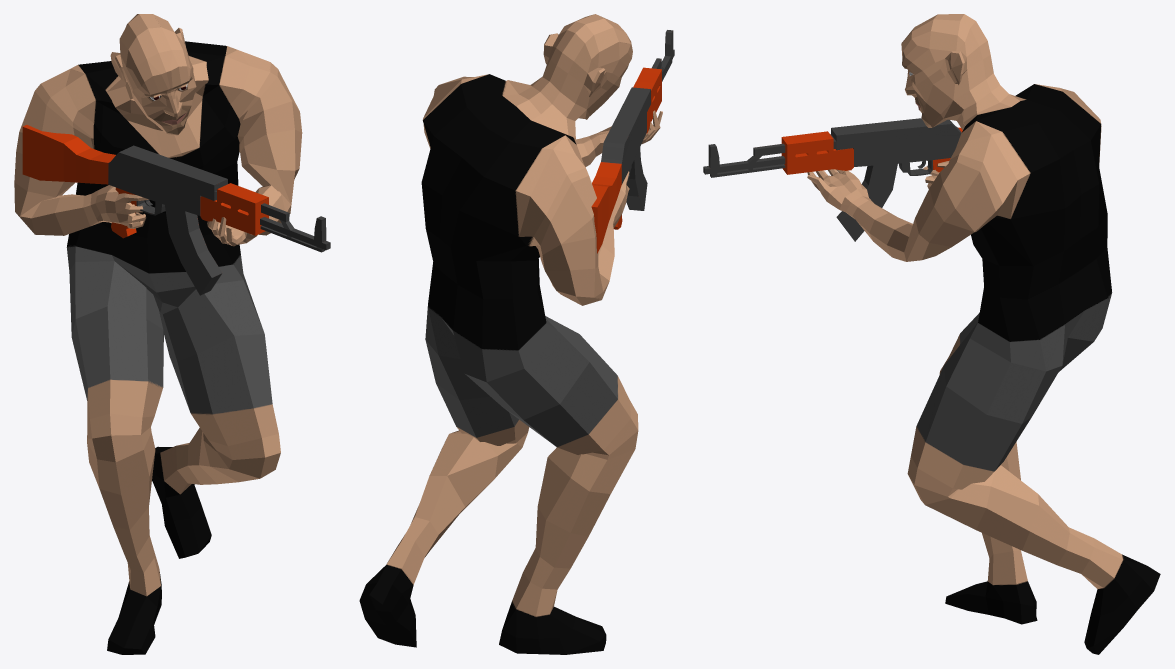
The model's file is PlayerWalk(28).obj.
3 renders of one model, left to right at view 1: azimuth 30°, elevation 25°; view 2: azimuth 150°, elevation 25°; view 3: azimuth 270°, elevation 25°, orthographic. The views are drawn at different scales.
Parts seen in each view (by area): view 1: Plane002, Object001; view 2: Plane002, Object001; view 3: Plane002, Object001.
Boxes of the visible parts, x1=… form: Plane002: x1=14, y1=14, x2=302, y2=654; Object001: x1=22, y1=125, x2=330, y2=295; Plane002: x1=359, y1=14, x2=662, y2=654; Object001: x1=591, y1=30, x2=674, y2=253; Plane002: x1=807, y1=14, x2=1160, y2=654; Object001: x1=703, y1=118, x2=962, y2=241.
Bounding box in the file's own units: 582 × 1572 × 1096.
